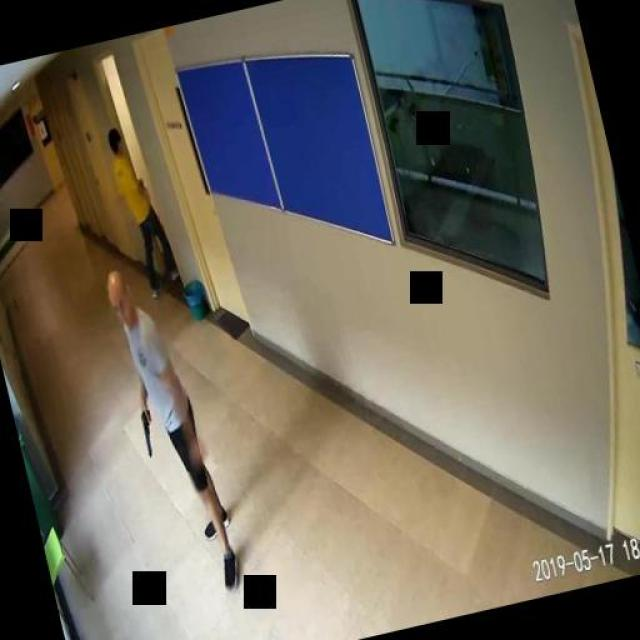gun: (136, 406, 158, 455)
